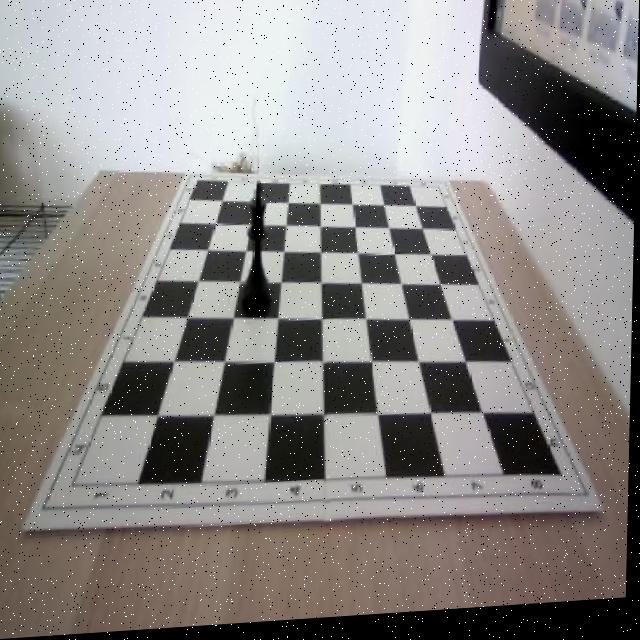black-bishop: (242, 182, 278, 320)
